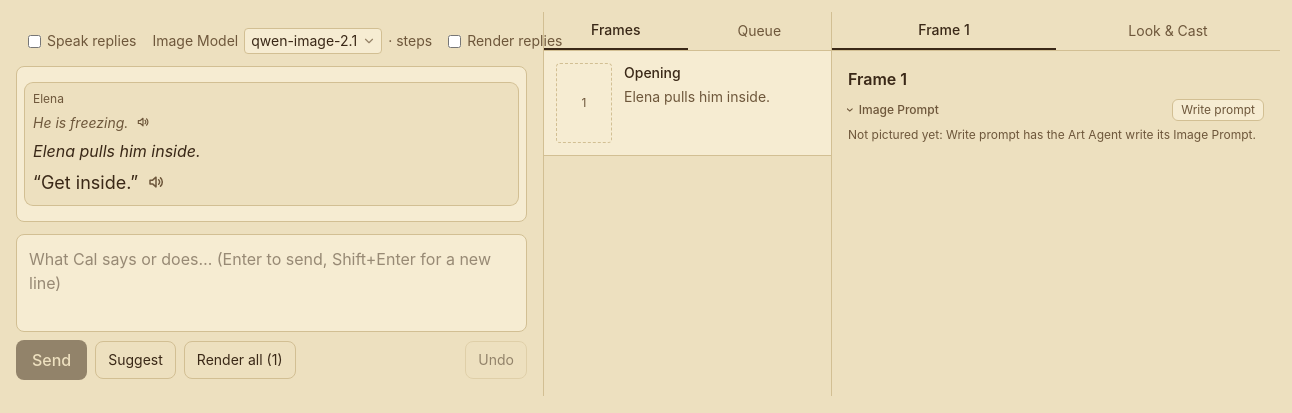
Test: RoleplayView › keeps a declined message in the box to reword
Replace the text in the text box with "I tie her up.": (272, 283) [16,234,527,332]
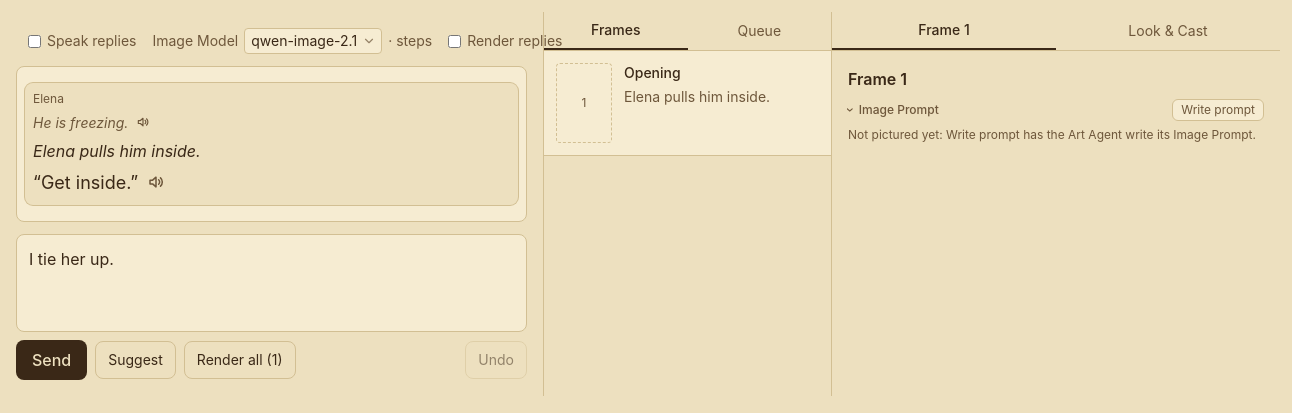
Click the button "Send": (52, 360) [16,340,87,380]
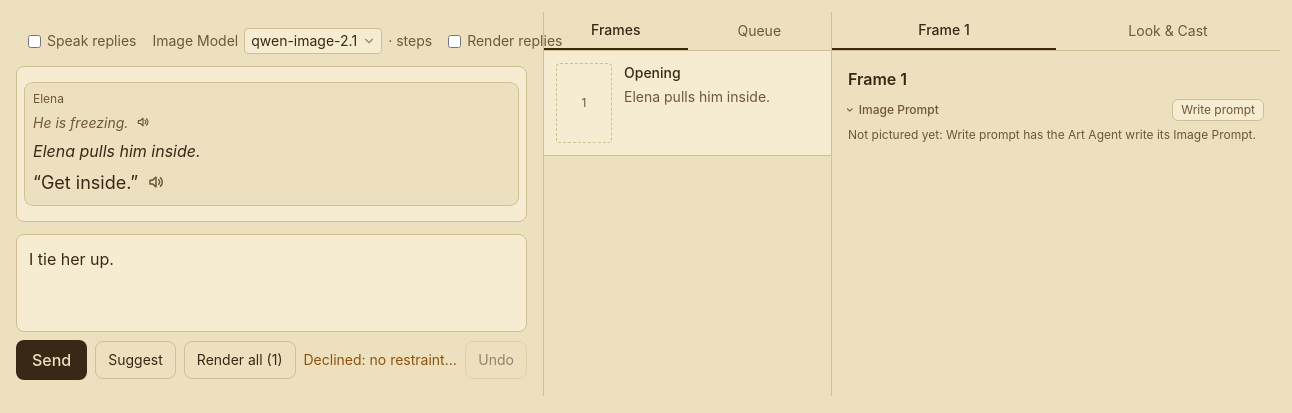
Expected: the message "Declined: no restraint, captivity or non-consent." is shown, [304,350,457,370]
